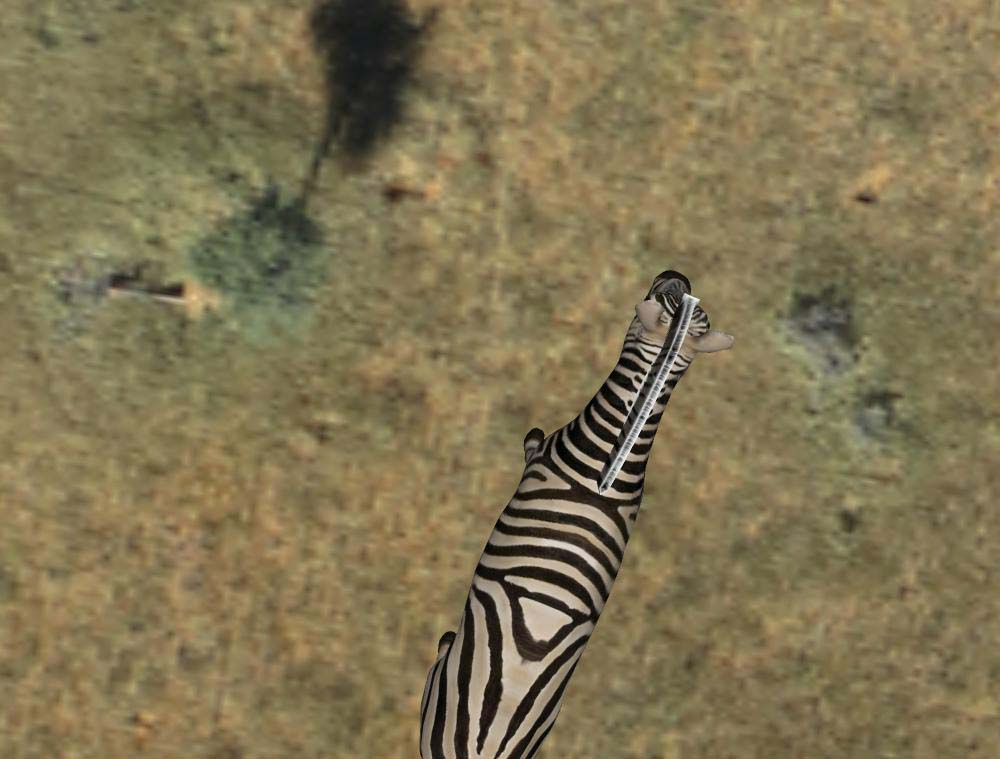zebra: (417, 259, 740, 758)
